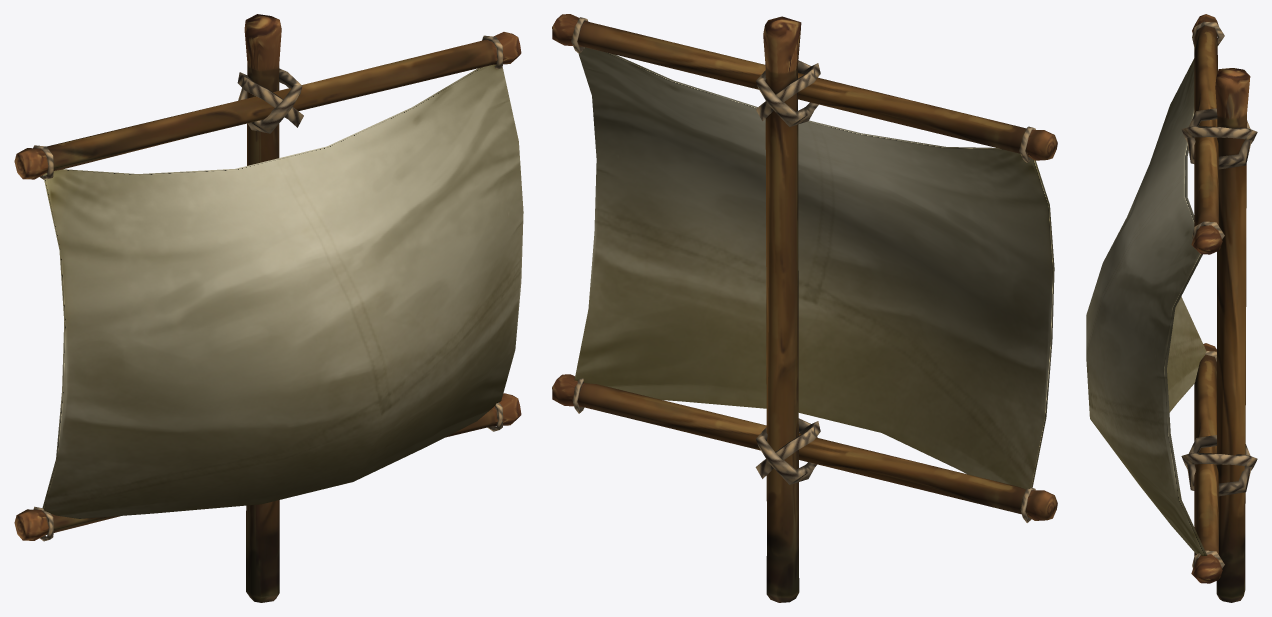
The model's file is SM_WOODENSAIL_LOW.fbx.
3 renders of one model, left to right at view 1: azimuth 30°, elevation 25°; view 2: azimuth 150°, elevation 25°; view 3: azimuth 270°, elevation 25°, orthographic. The views are drawn at different scales.
Parts seen in each view (by area): view 1: SM_WOODENSAIL_LOW; view 2: SM_WOODENSAIL_LOW; view 3: SM_WOODENSAIL_LOW.
Part boxes in pixels (x1=…): SM_WOODENSAIL_LOW: x1=14, y1=14, x2=523, y2=602; SM_WOODENSAIL_LOW: x1=552, y1=14, x2=1057, y2=602; SM_WOODENSAIL_LOW: x1=1086, y1=14, x2=1257, y2=602.
Size of the model in its own units: 84.35 by 93.91 by 27.56.
